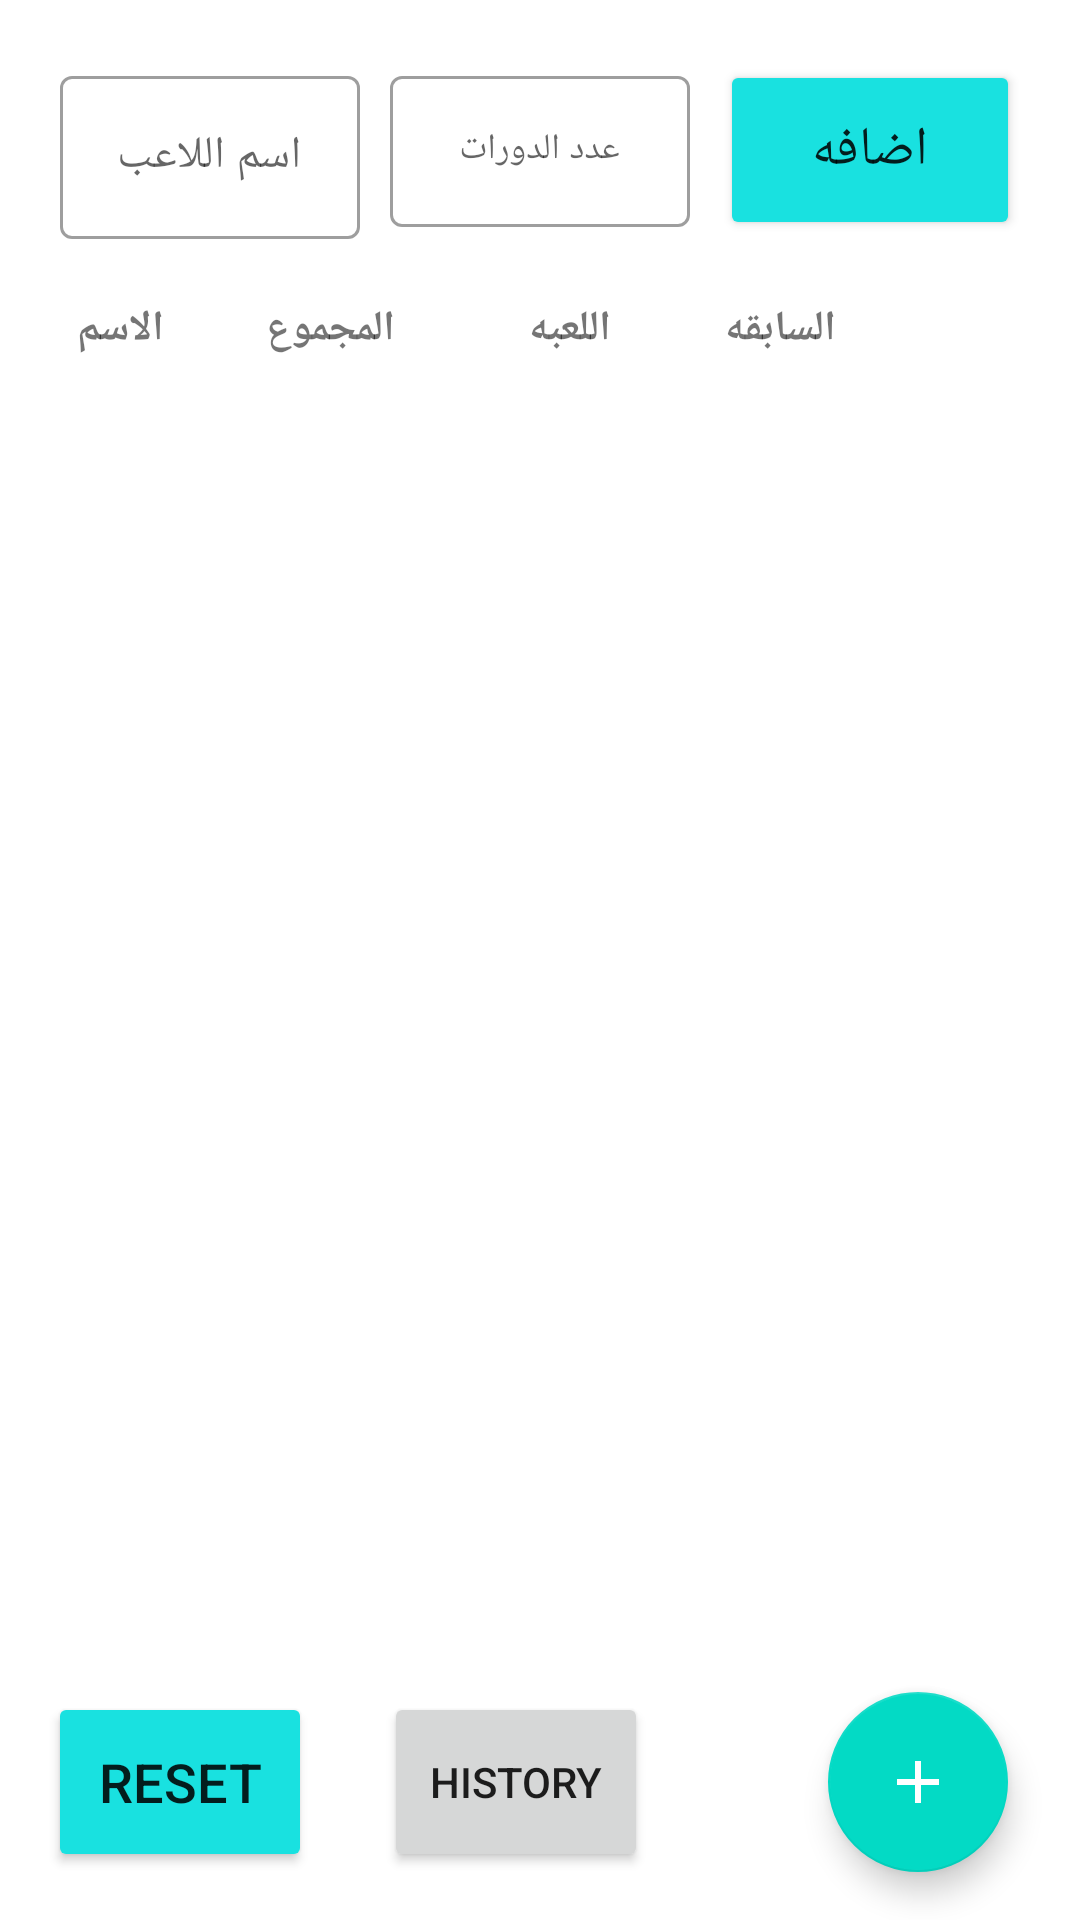

Screen size 1080×1920. Icon name, then its center in pixels as (x,y):
add: (918,1782)
